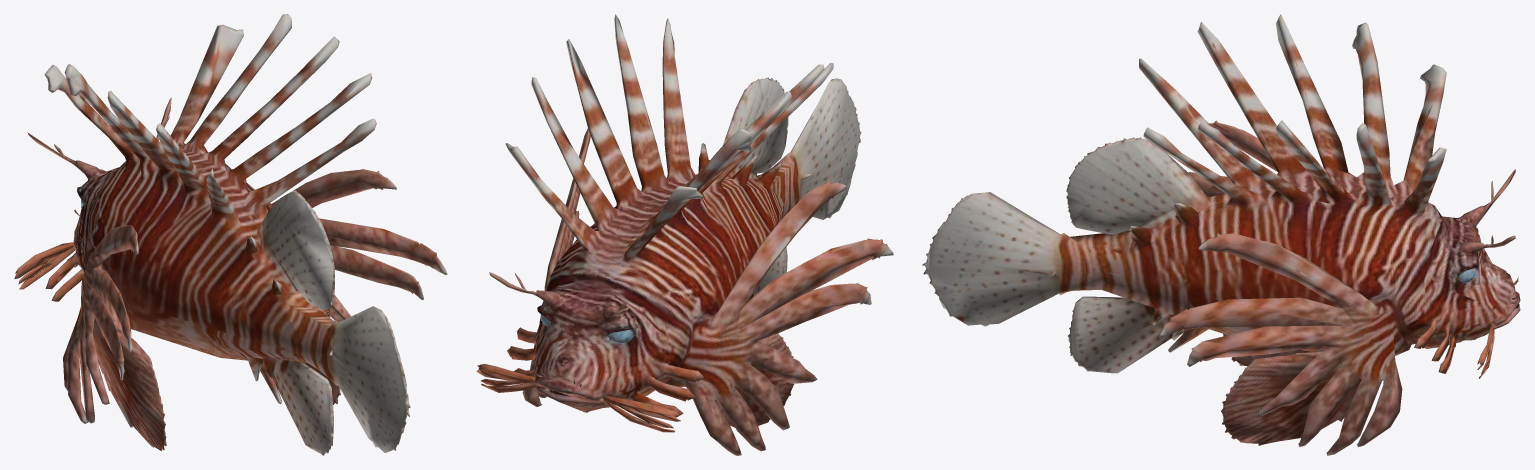
Rendered from koraalduivel.glb.
The picture shows the model from 3 angles, left to right: view 1: azimuth 30°, elevation 25°; view 2: azimuth 150°, elevation 25°; view 3: azimuth 270°, elevation 25°; orthographic projection. The views are drawn at different scales.
Parts seen in each view (by area): view 1: tripo_node_929d38f3-c526-41af-a74e-9fef1347206c; view 2: tripo_node_929d38f3-c526-41af-a74e-9fef1347206c; view 3: tripo_node_929d38f3-c526-41af-a74e-9fef1347206c.
Boxes of the visible parts, box(x1,y1,x2,y2) form: tripo_node_929d38f3-c526-41af-a74e-9fef1347206c: box(14, 14, 447, 455); tripo_node_929d38f3-c526-41af-a74e-9fef1347206c: box(476, 14, 893, 455); tripo_node_929d38f3-c526-41af-a74e-9fef1347206c: box(922, 14, 1520, 455).
Bounding box in the file's own units: 0.2813 × 0.3 × 0.4776.
1 material, 1 textured.
